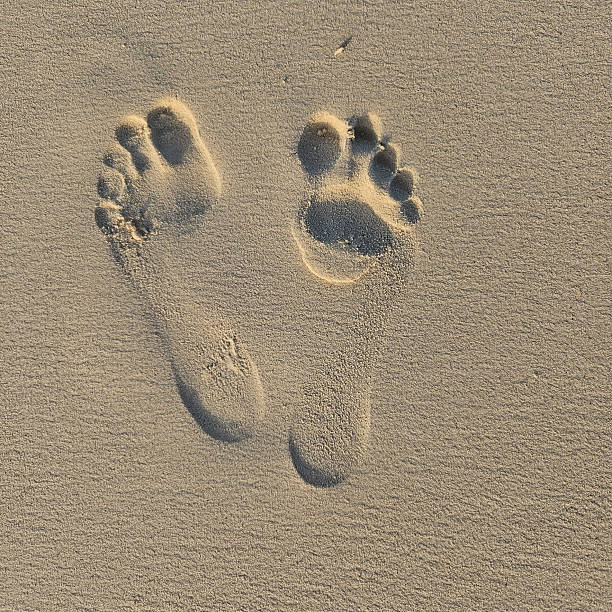human_footprint: (95, 98, 263, 441), (289, 112, 422, 485)
